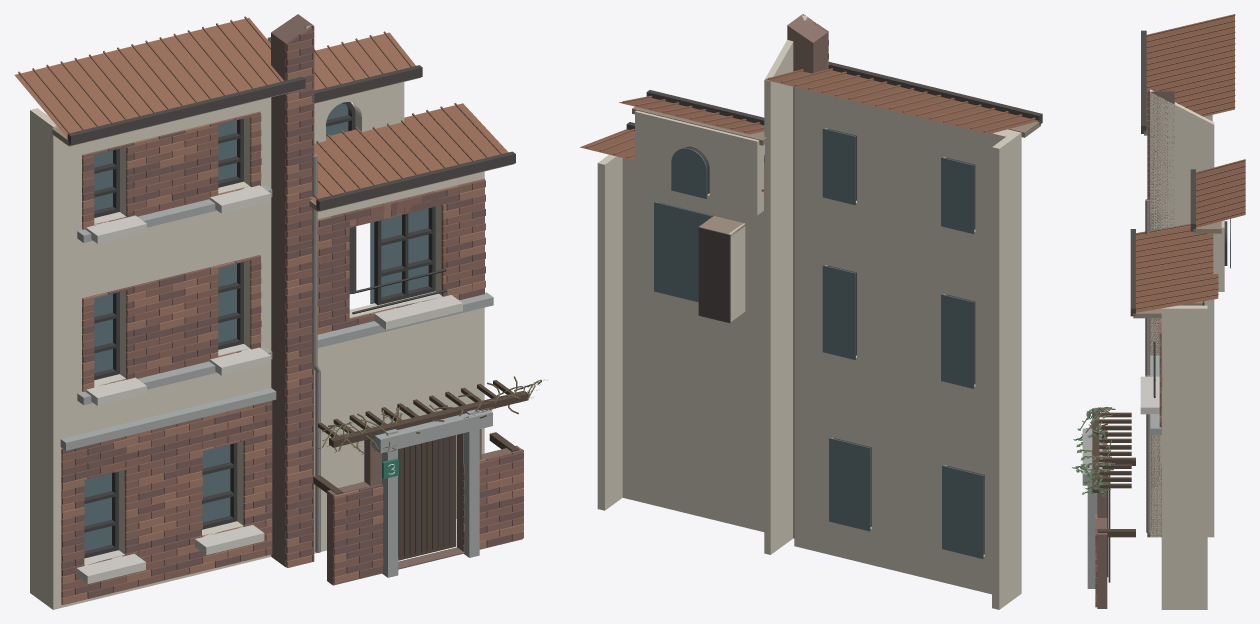
The model's file is jingan-yuhua-new-residential-quarter-03-raw.glb.
The picture shows the model from 3 angles, left to right: view 1: azimuth 30°, elevation 25°; view 2: azimuth 150°, elevation 25°; view 3: azimuth 270°, elevation 25°; orthographic projection. The views are drawn at different scales.
Parts seen in each view (by area): view 1: 裕华新村3号（临弄院门与可见楼面）; view 2: 裕华新村3号（临弄院门与可见楼面）; view 3: 裕华新村3号（临弄院门与可见楼面）.
Part boxes in pixels (<box>): 裕华新村3号（临弄院门与可见楼面）: <box>14,14,547,609</box>; 裕华新村3号（临弄院门与可见楼面）: <box>580,14,1042,609</box>; 裕华新村3号（临弄院门与可见楼面）: <box>1072,14,1245,609</box>.
Bounding box in the file's own units: 8.41 × 9.42 × 3.35.
